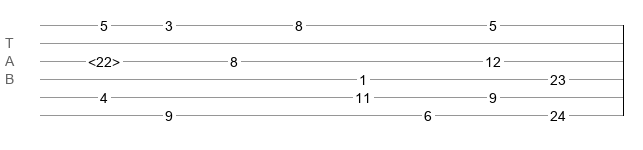1: (359, 72, 367, 82)
11: (355, 90, 371, 100)
12: (485, 54, 501, 64)
23: (550, 72, 566, 82)
24: (550, 108, 566, 118)
3: (165, 18, 173, 28)
4: (100, 90, 108, 100)
5: (100, 18, 108, 28), (489, 18, 497, 28)
6: (424, 108, 432, 118)
8: (230, 54, 238, 64), (295, 18, 303, 28)
9: (165, 108, 173, 118), (489, 90, 497, 100)
harmonic: (88, 54, 120, 64)
